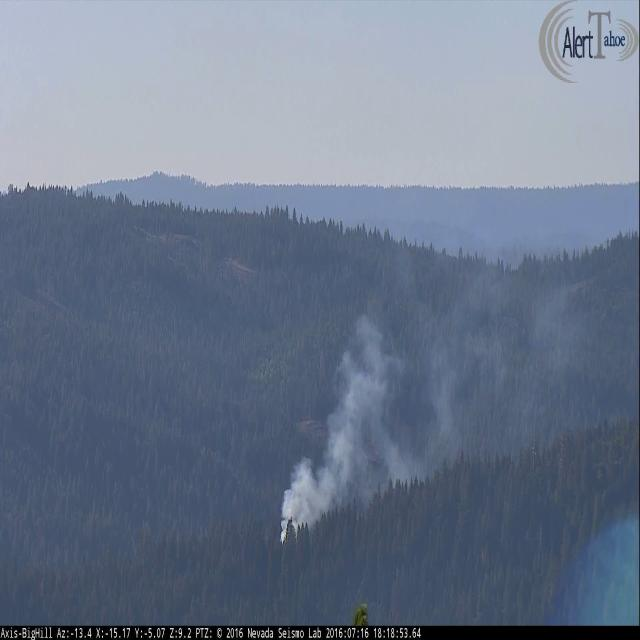smoke: (278, 317, 402, 548)
